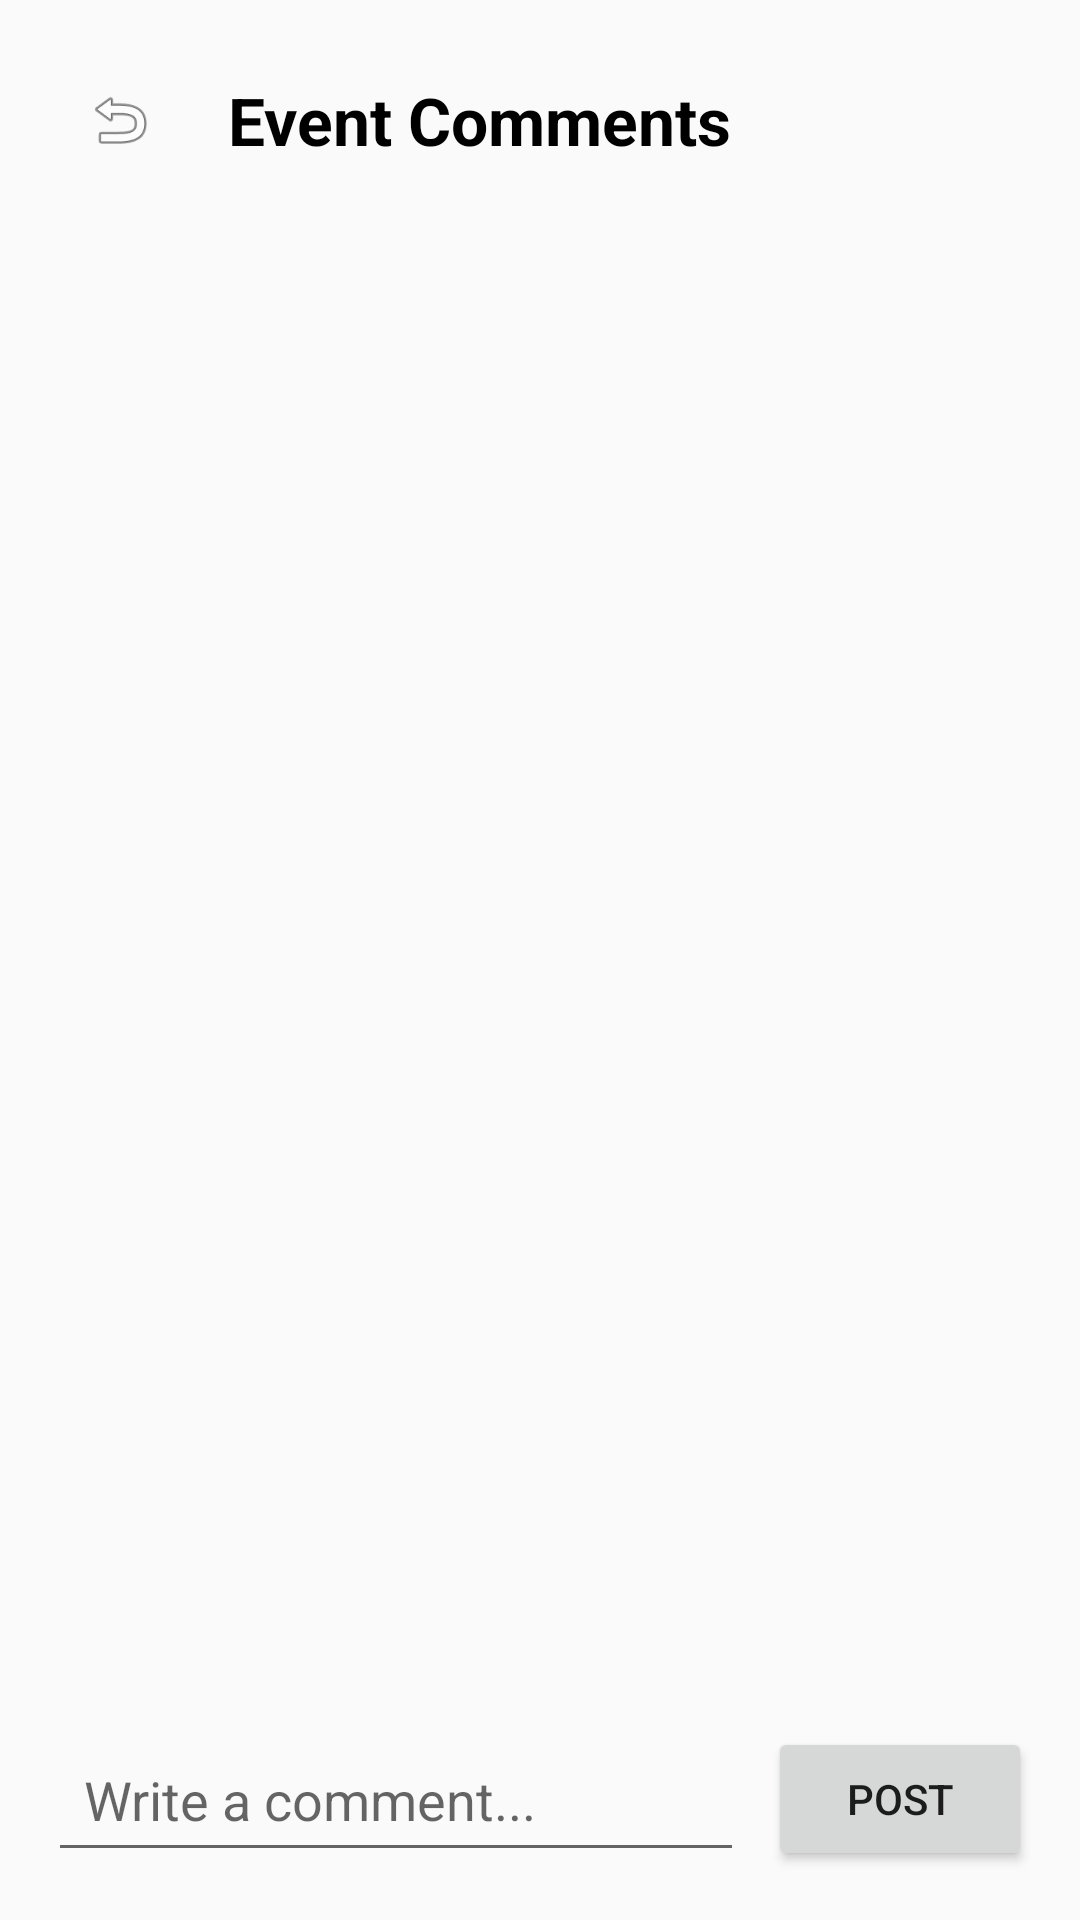

Icon click points for this 1080 × 1920 phone screenshot, format point (x, y):
Back: point (121, 120)
